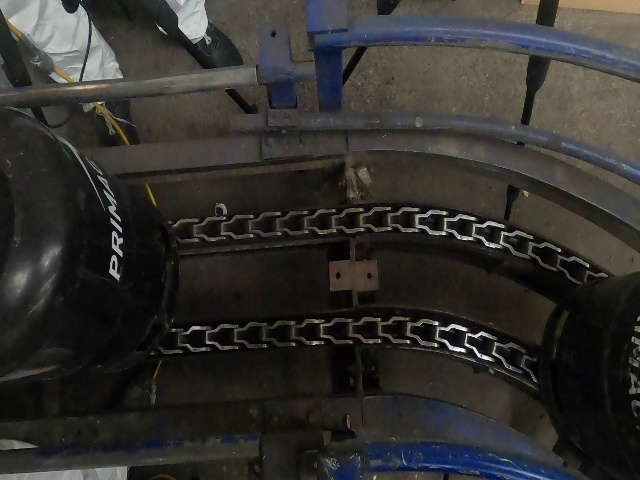gas_bottle: (11, 5, 635, 480)
